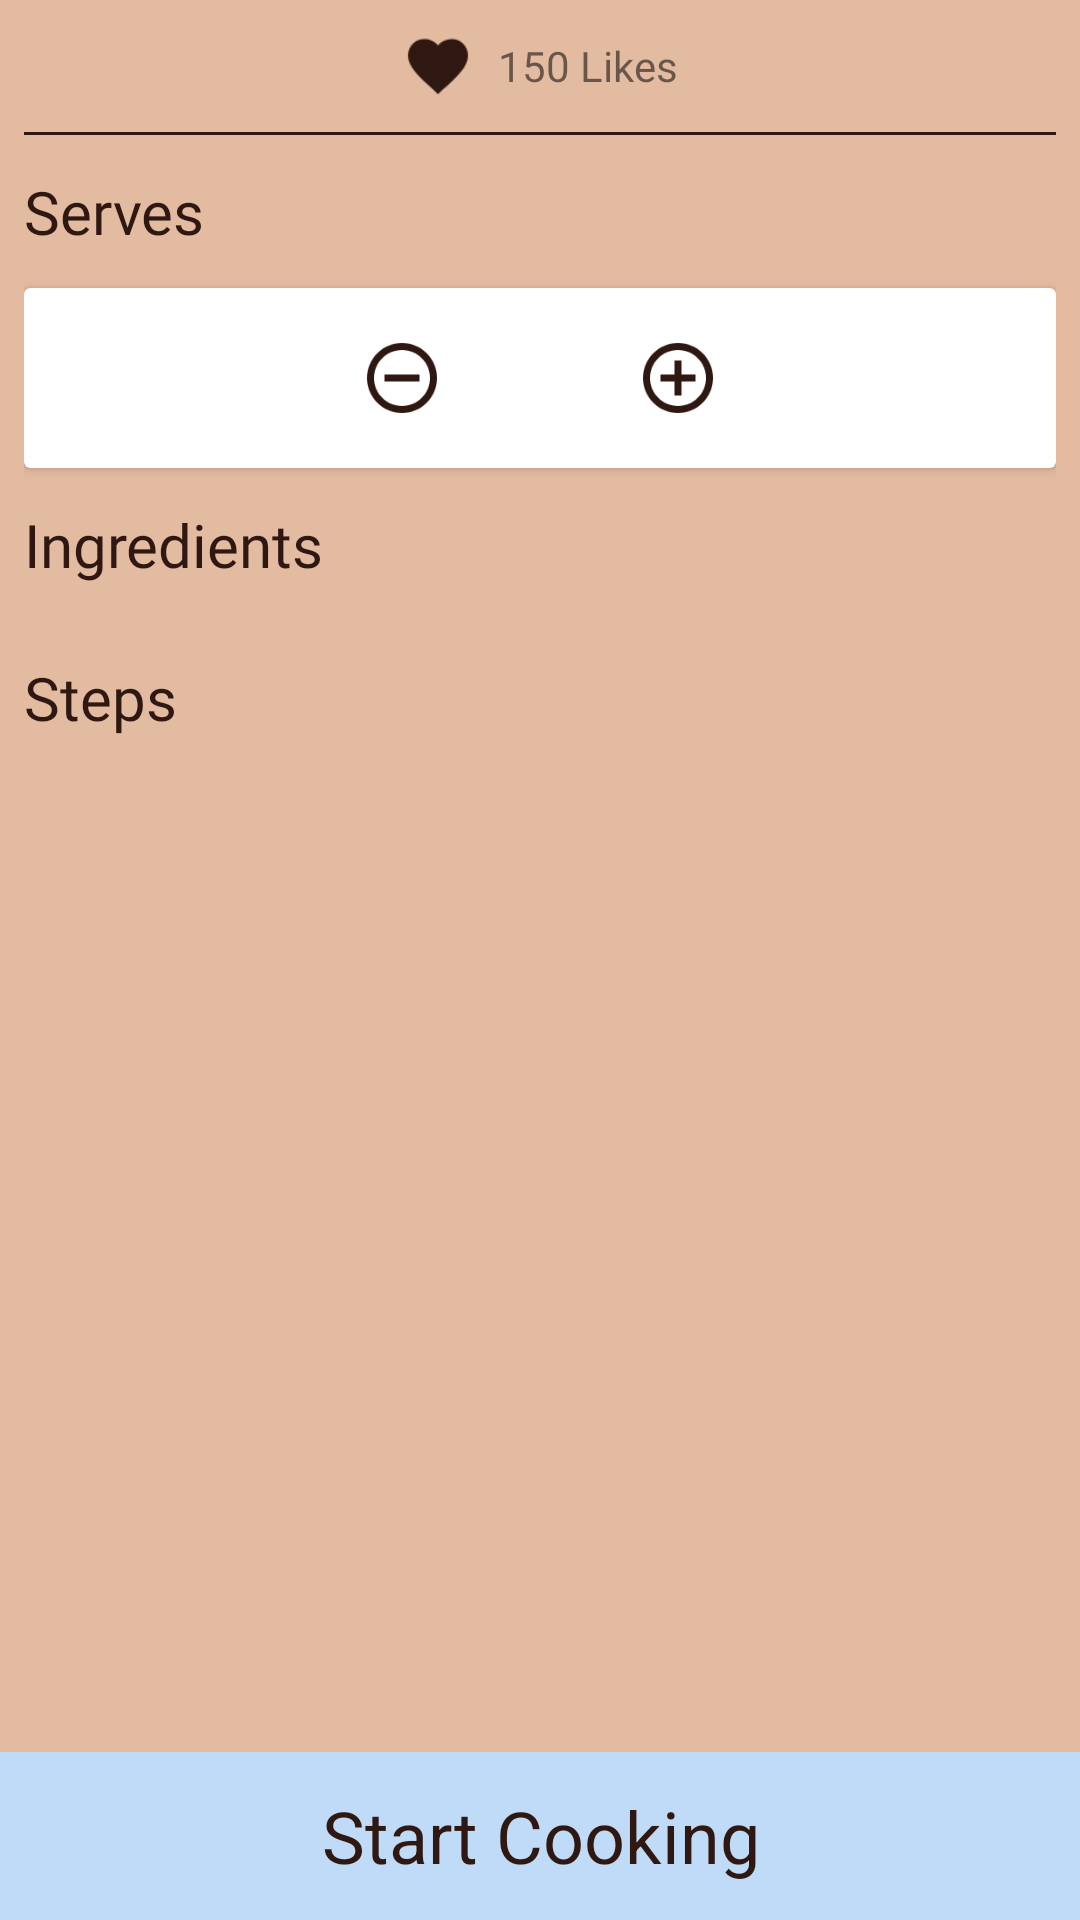

Where icons sit on this 1080×1920 app screen, as (x1, y1, x2, y2):
Add: (643, 343, 713, 413)
Remove: (367, 343, 437, 413)
